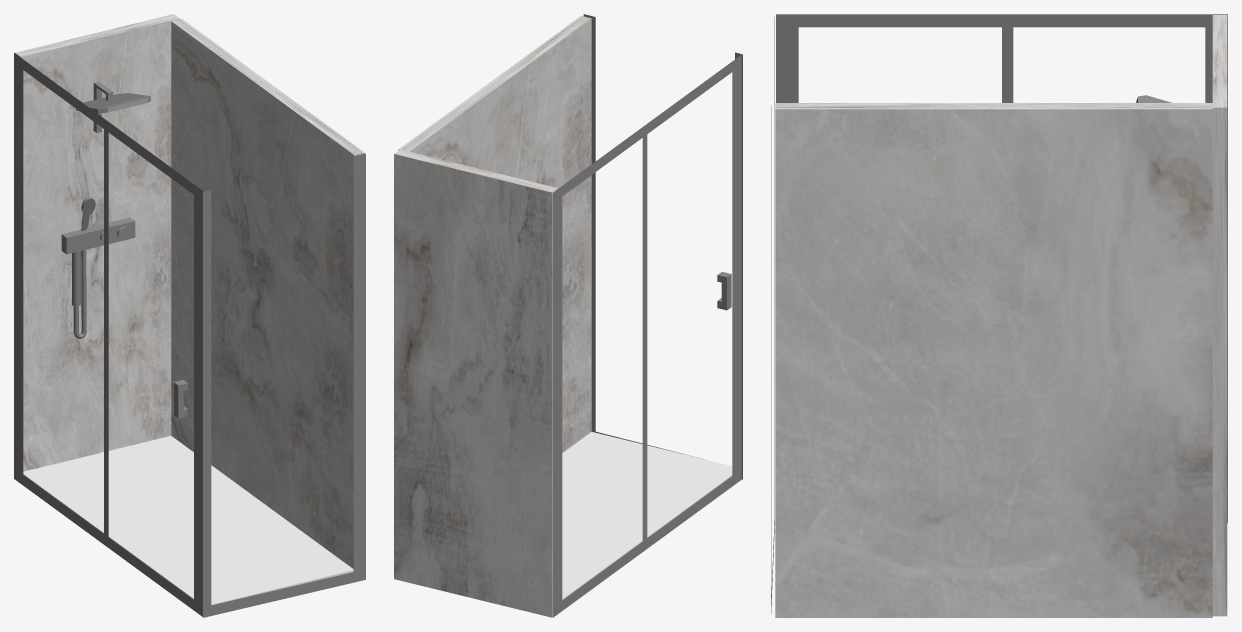
The model's file is kinewall-6.glb.
3 renders of one model, left to right at view 1: azimuth 30°, elevation 25°; view 2: azimuth 150°, elevation 25°; view 3: azimuth 270°, elevation 25°, orthographic. The views are drawn at different scales.
Visible parts, largest first — view 1: kinewall-back, kinewall; view 2: kinewall-back, kinewall; view 3: kinewall-back, kinewall.
Boxes of the visible parts, x1,y1,x2,y2 form: kinewall-back: [15, 14, 364, 568]; kinewall: [14, 53, 365, 617]; kinewall-back: [394, 15, 591, 617]; kinewall: [553, 14, 742, 617]; kinewall-back: [775, 15, 1227, 617]; kinewall: [771, 14, 1227, 613].
Size of the model in its own units: 3.19 by 7.71 by 6.27.
4 materials, 1 textured.
